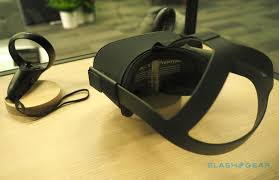oculus: (90, 30, 236, 129)
